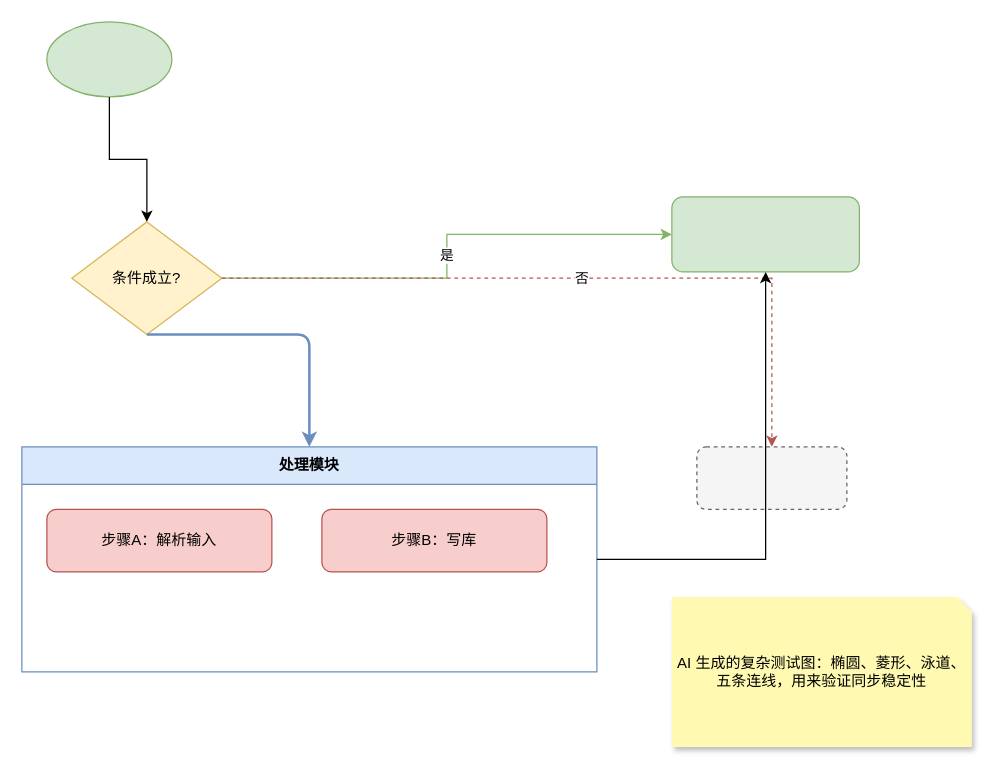
The diagram is 1001 pixels wide and 778 high, and some of its shapes have lost their labels. Each missing label, with the centre of its shape:
"处理完成" belongs at pixel 765 234.
"开始" belongs at pixel 109 59.
"跳过" belongs at pixel 771 477.
